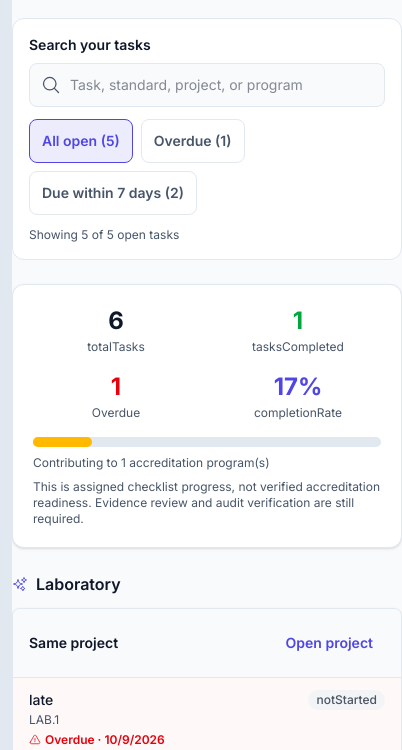
Accreditation workspace improvements › filters by local-calendar deadlines, excludes closed work, and handles invalid dates
Step 1. Click the button "Overdue (1)" → (193, 141), box [141,119,244,163]
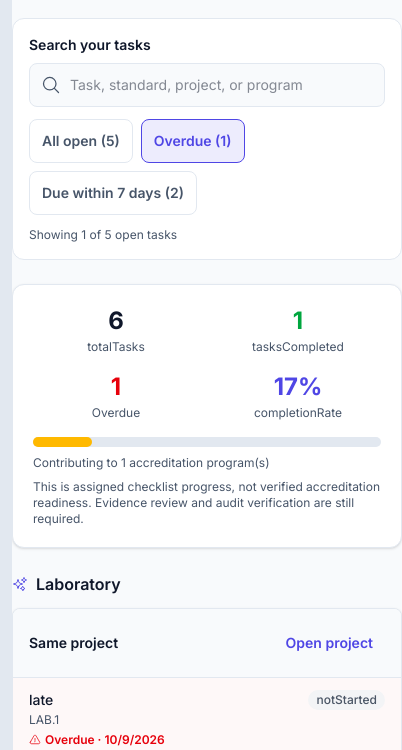
Expected: the text "late" is shown, [29,691,53,708]
Expected: the text "today" is not shown
Step 2. Click the button "Due within 7 days (2)" → (113, 193), box [29,171,197,215]
(page scrolled)
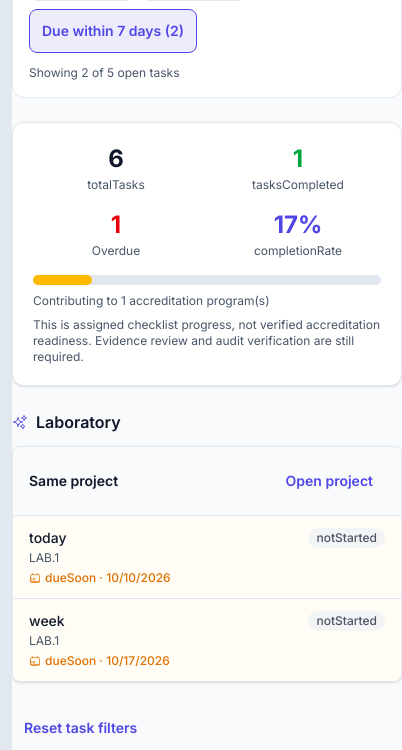
Result: the text "today" is shown at [29,529,66,546]
Result: the text "week" is shown at [29,612,65,629]
